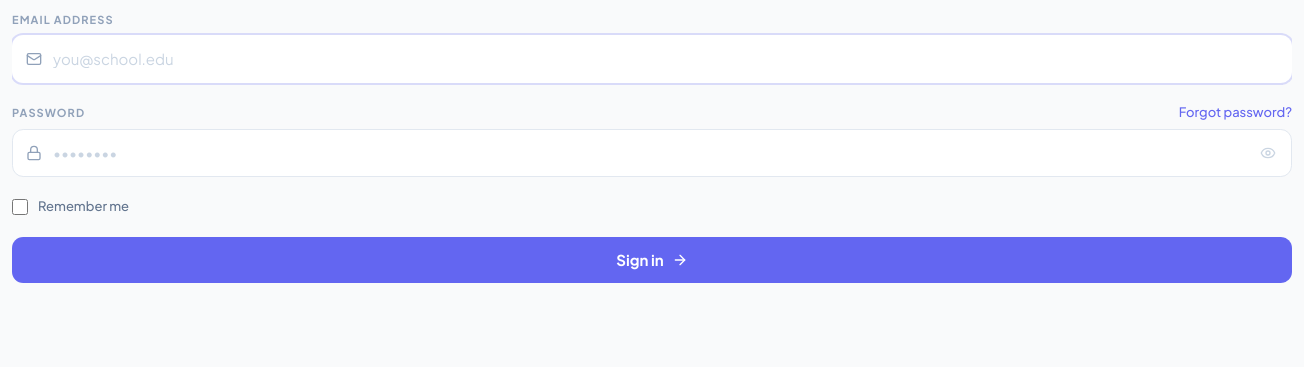
Test: SignInForm › shows a validation error for invalid email format
Type "not-an-email" into the field labelled "Email address" at (652, 59), box left=12, top=34, right=1292, bottom=83
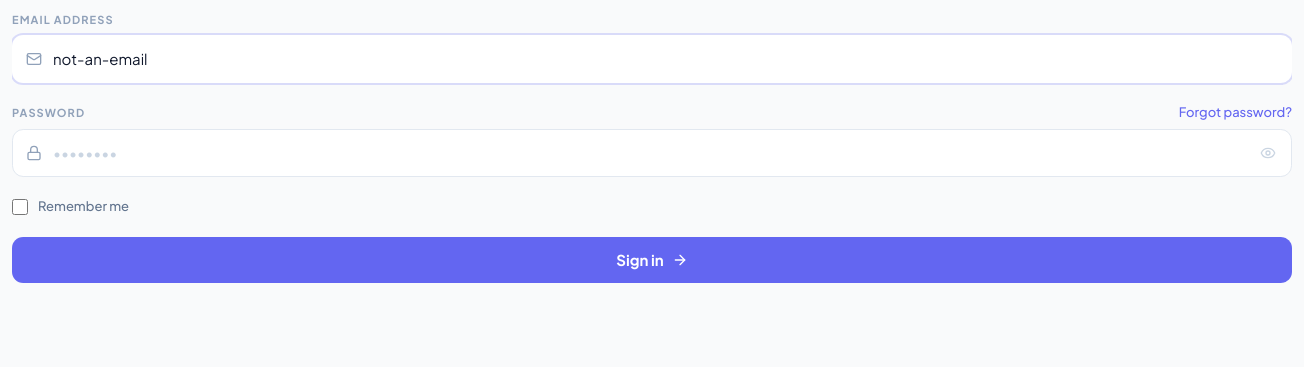
Type "Secret123!" into the password field labelled "Password" at (652, 153), box left=12, top=128, right=1292, bottom=177
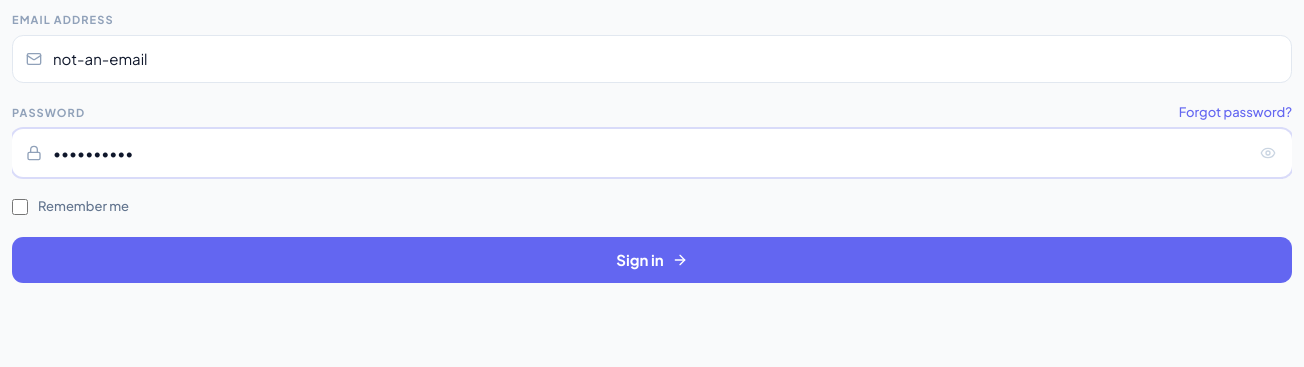
Click the button "Sign in" at (652, 260), box left=12, top=236, right=1292, bottom=283
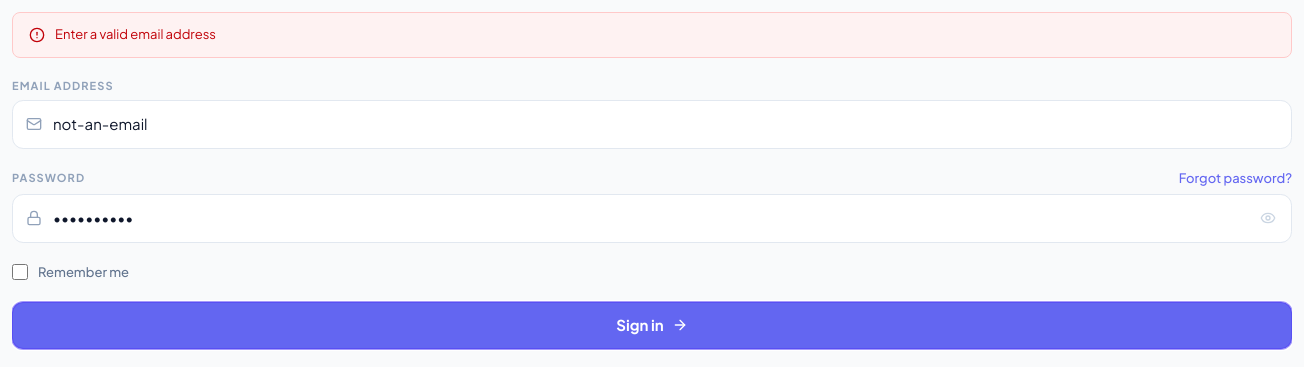
Now the message shows "valid email", box left=55, top=26, right=216, bottom=42
